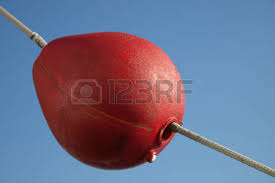buoy: (33, 32, 186, 170)
